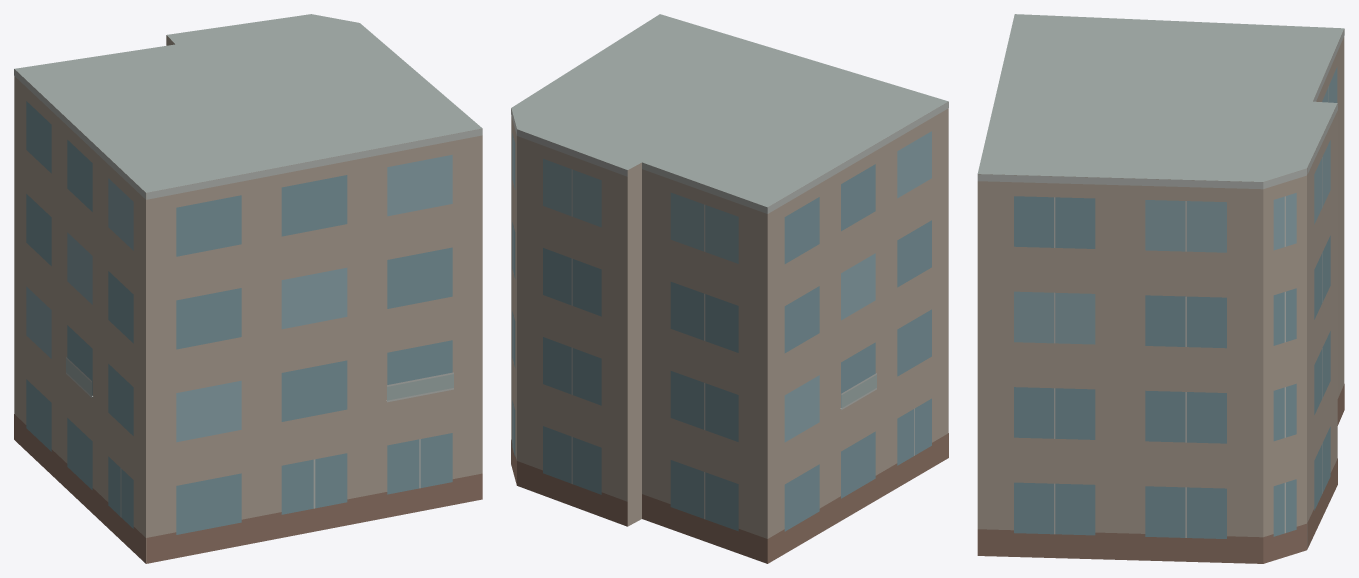
Rendered from survey-upis-32798510.glb.
3 renders of one model, left to right at view 1: azimuth 30°, elevation 25°; view 2: azimuth 150°, elevation 25°; view 3: azimuth 270°, elevation 25°, orthographic. The views are drawn at different scales.
Parts seen in each view (by area): view 1: survey-upis-32798510.tmp; view 2: survey-upis-32798510.tmp; view 3: survey-upis-32798510.tmp.
Boxes of the visible parts, x1,y1,x2,y2 form: survey-upis-32798510.tmp: (14,14,482,563); survey-upis-32798510.tmp: (511,14,948,563); survey-upis-32798510.tmp: (977,14,1344,563).
Size of the model in its own units: 12.26 by 12.98 by 11.31.
